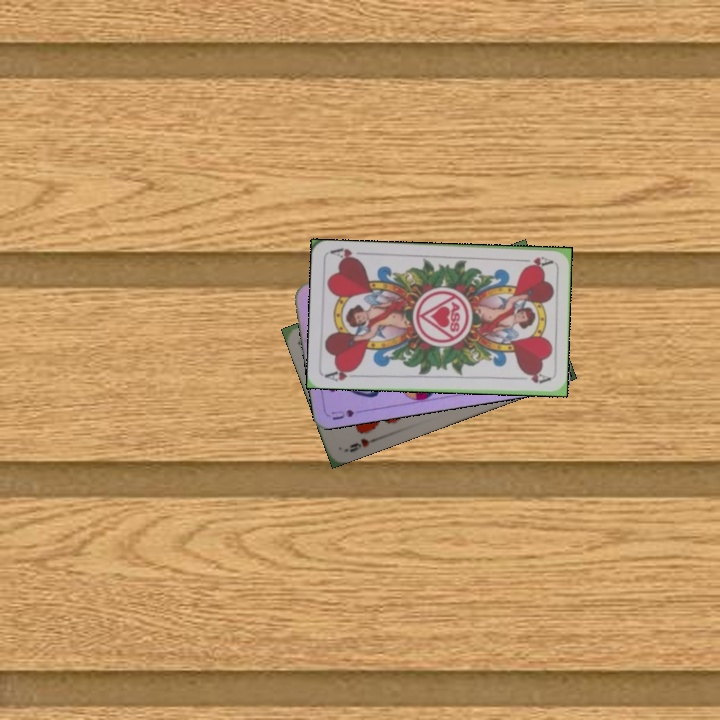H9: (341, 434, 381, 455)
HA: (322, 364, 362, 384), (514, 252, 555, 270)
SU: (327, 405, 368, 423)
